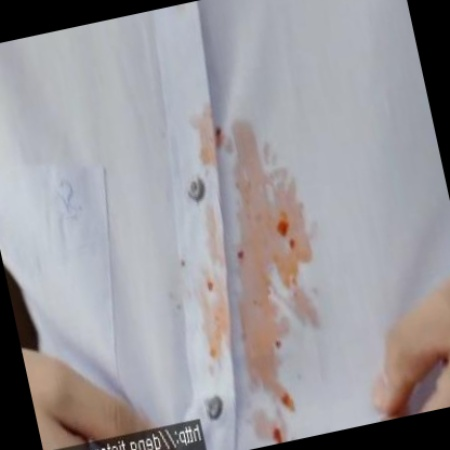kimchi: (133, 91, 346, 450), (263, 203, 296, 260), (199, 119, 230, 156), (199, 273, 226, 301), (266, 422, 291, 445), (234, 242, 253, 266), (176, 247, 191, 266), (270, 331, 286, 347), (283, 389, 294, 401)
